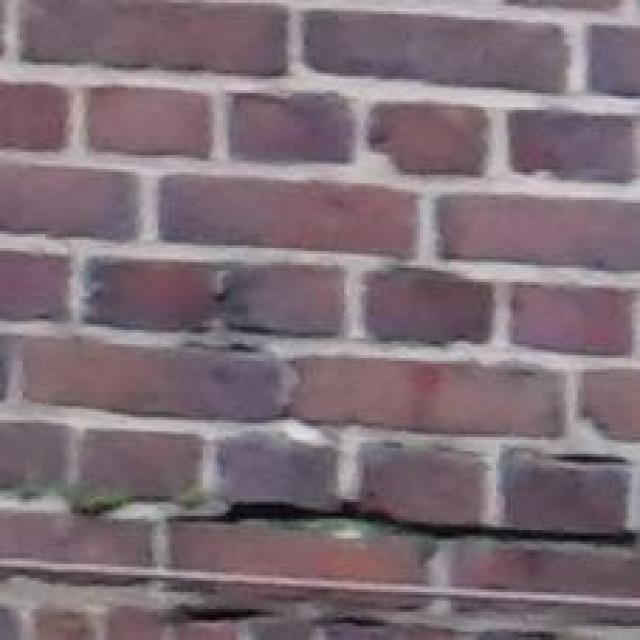Crack: (75, 416, 640, 618)
